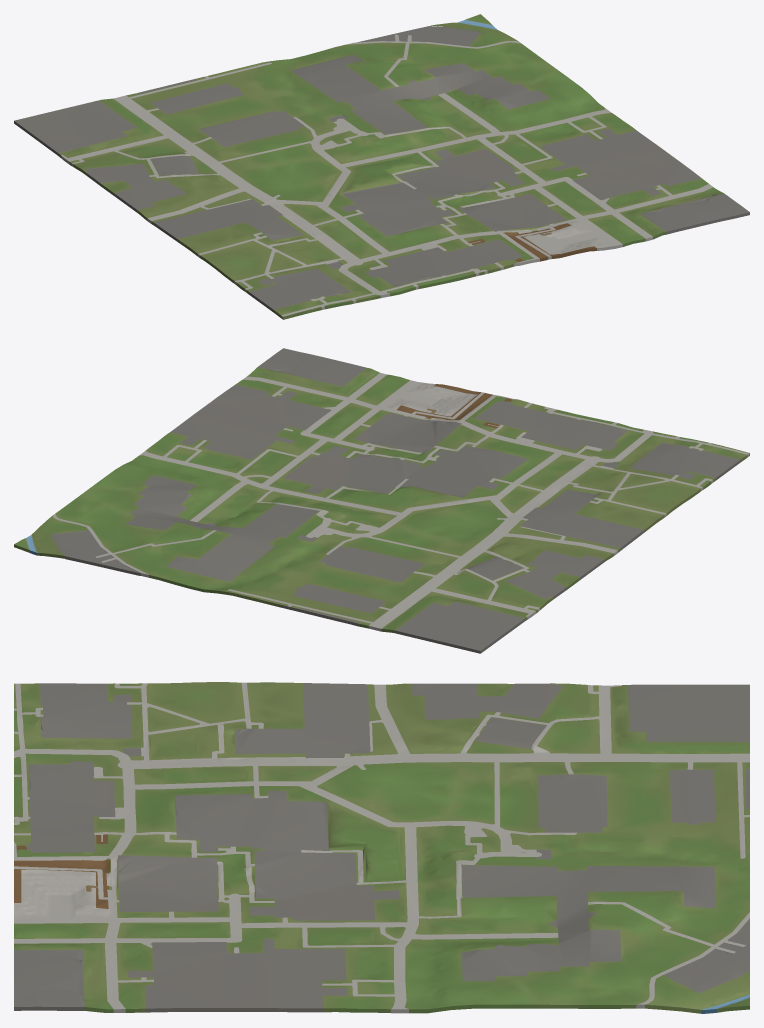
3 renders of one model, top to bottom at view 1: azimuth 30°, elevation 25°; view 2: azimuth 150°, elevation 25°; view 3: azimuth 270°, elevation 25°, orthographic. The views are drawn at different scales.
Visible parts, largest first — view 1: T-0--1.L1:utd:matte; view 2: T-0--1.L1:utd:matte; view 3: T-0--1.L1:utd:matte.
Part boxes in pixels (x1,y1,x2,y2): T-0--1.L1:utd:matte: (14,14,749,319); T-0--1.L1:utd:matte: (14,348,749,653); T-0--1.L1:utd:matte: (14,682,749,1013).
Size of the model in its own units: 256 by 8.04 by 256.
